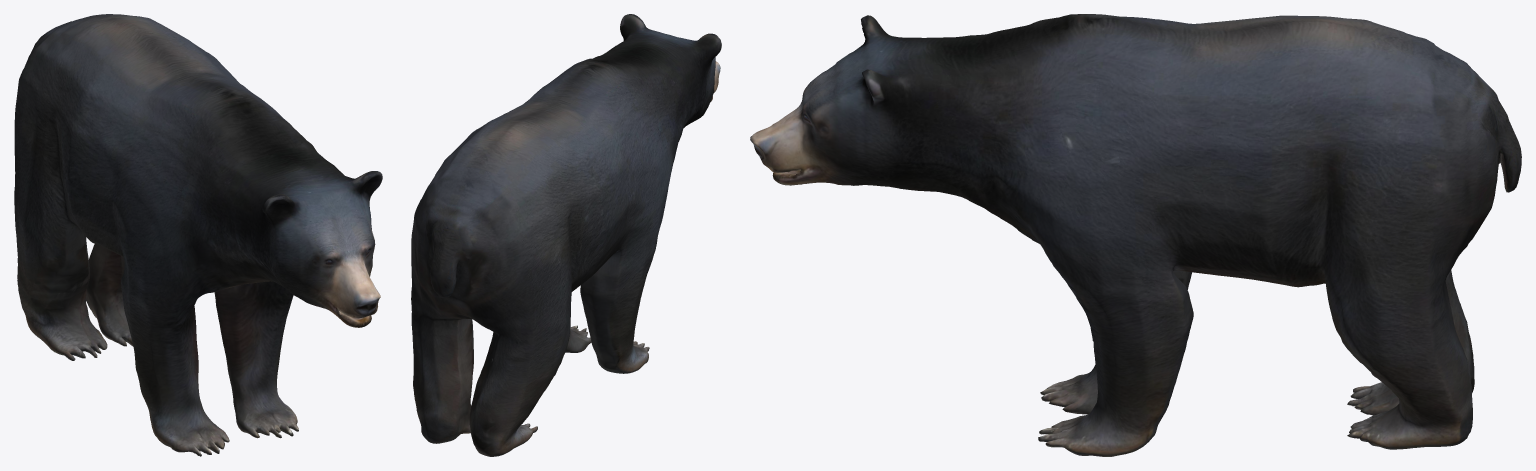
File: oso.glb
The picture shows the model from 3 angles, left to right: view 1: azimuth 30°, elevation 25°; view 2: azimuth 150°, elevation 25°; view 3: azimuth 270°, elevation 25°; orthographic projection. The views are drawn at different scales.
Visible parts, largest first — view 1: Mesh_0.002; view 2: Mesh_0.002; view 3: Mesh_0.002.
Part boxes in pixels (bbox=[...]): Mesh_0.002: bbox=[14, 14, 382, 456]; Mesh_0.002: bbox=[411, 14, 721, 456]; Mesh_0.002: bbox=[750, 14, 1521, 456].
Size of the model in its own units: 0.629 by 1.16 by 2.
Materials: 1 (1 with a texture image).
